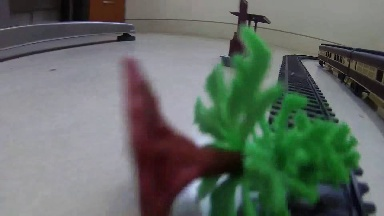tree: (122, 25, 360, 216)
